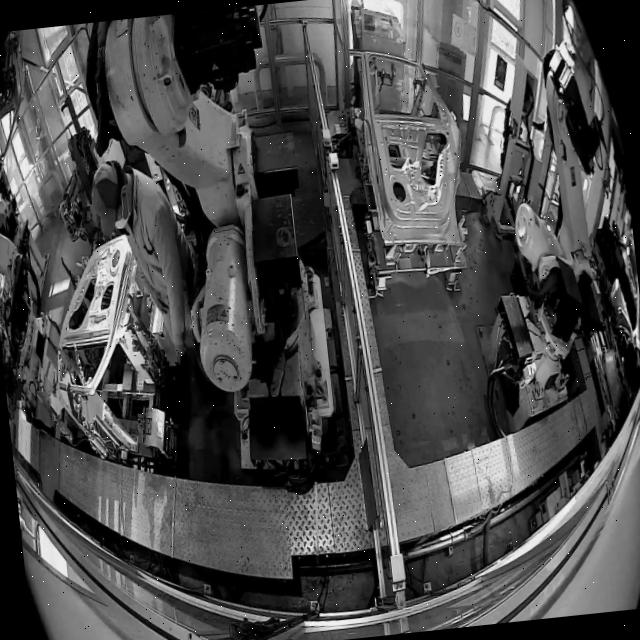Person: (88, 152, 204, 366)
